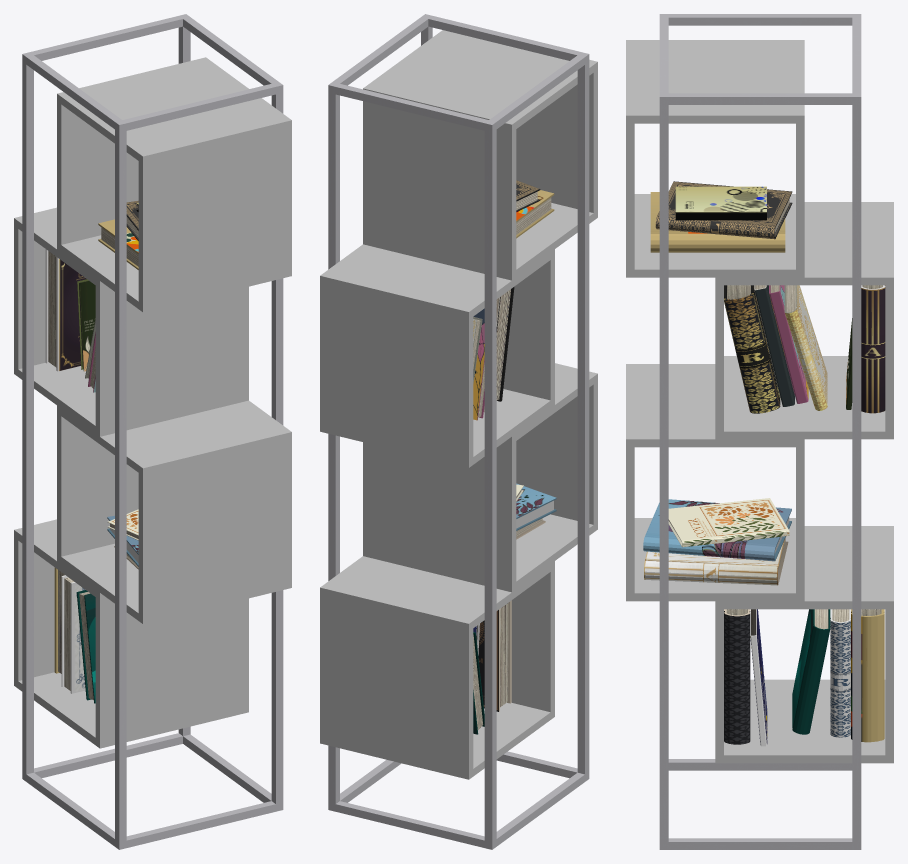
The model's file is Book.fbx.
3 views of the same model, side by side, from view 1: azimuth 30°, elevation 25°; view 2: azimuth 150°, elevation 25°; view 3: azimuth 270°, elevation 25° (orthographic). The views are drawn at different scales.
Visible parts, largest first — view 1: Shelf_1, Shelf_3, Shelf_frame, Shelf_4, Shelf_2, Book_11, Book_8, Book_12, Book_13, Book_17, Book_14; view 2: Shelf_1, Shelf_2, Shelf_4, Shelf_frame, Shelf_3, Book_7, Book_1, Book_16, Book_15, Book_14, Book_12, Book_2; view 3: Shelf_frame, Shelf_1, Shelf_2, Shelf_4, Shelf_3, Book_4, Book_1, Book_7, Book_3, Book_17, Book_9, Book_11 (+9 smaller).
Part boxes in pixels (box(x1,y1,x2,y2)): Shelf_1: box(57, 57, 291, 312); Shelf_3: box(57, 400, 291, 623); Shelf_frame: box(22, 14, 283, 849); Shelf_4: box(14, 519, 248, 748); Shelf_2: box(14, 207, 248, 436); Book_11: box(45, 249, 86, 371); Book_8: box(61, 575, 85, 693); Book_12: box(76, 590, 95, 703); Book_13: box(77, 279, 95, 371); Book_17: box(54, 567, 64, 673); Book_14: box(98, 219, 138, 269); Shelf_1: box(363, 30, 597, 280); Shelf_2: box(320, 244, 554, 467); Shelf_4: box(320, 556, 554, 779); Shelf_frame: box(328, 14, 589, 849); Shelf_3: box(363, 363, 597, 592); Book_7: box(478, 600, 511, 711); Book_1: box(496, 287, 514, 401); Book_16: box(516, 483, 556, 530); Book_15: box(473, 308, 484, 420); Book_14: box(516, 190, 554, 238); Book_12: box(473, 632, 484, 734); Book_2: box(516, 180, 540, 211); Shelf_frame: box(659, 14, 861, 849); Shelf_1: box(626, 40, 804, 277); Shelf_2: box(715, 202, 893, 439); Shelf_4: box(715, 526, 893, 763); Shelf_3: box(626, 364, 804, 601); Book_4: box(668, 498, 789, 547); Book_1: box(724, 285, 780, 413); Book_7: box(724, 609, 750, 744); Book_3: box(644, 537, 788, 585); Book_17: box(851, 609, 884, 742); Book_9: box(675, 186, 766, 220); Book_11: box(861, 285, 885, 413).
Bounding box in the file's own units: 44.04 × 186 × 60.
